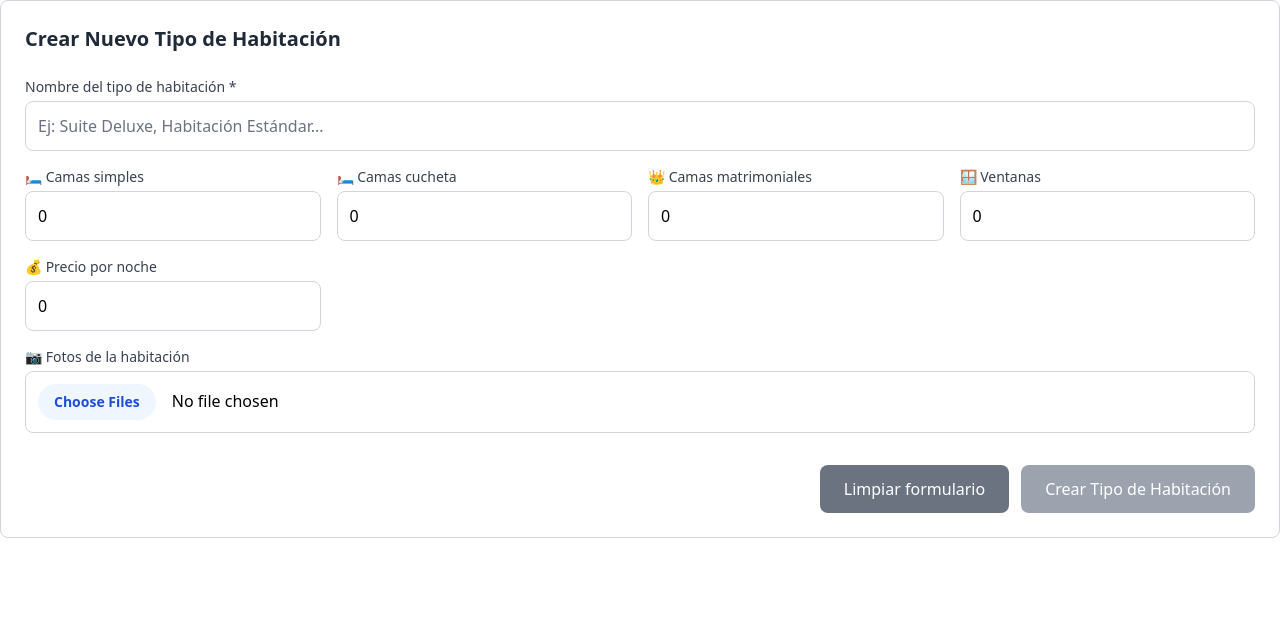
Test: RoomTypeForm › permite completar datos y enviar el formulario con éxito
Type "Suite Deluxe" into the field labelled "Nombre del tipo de habitación *" at [640, 126], box [25,101,1255,151]
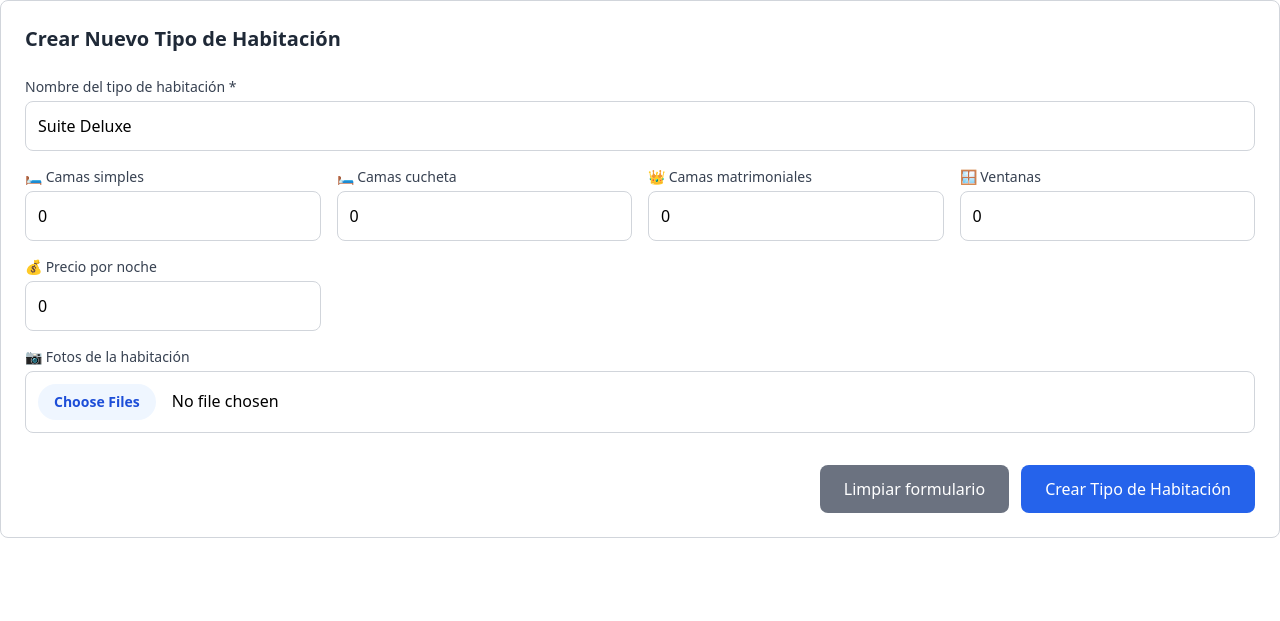
Replace the text in the number field labelled "🛏️ Camas simples" with "2" at [173, 216], box [25,191,320,241]
Replace the text in the number field labelled "🛏️ Camas cucheta" with "1" at [484, 216], box [336,191,632,241]
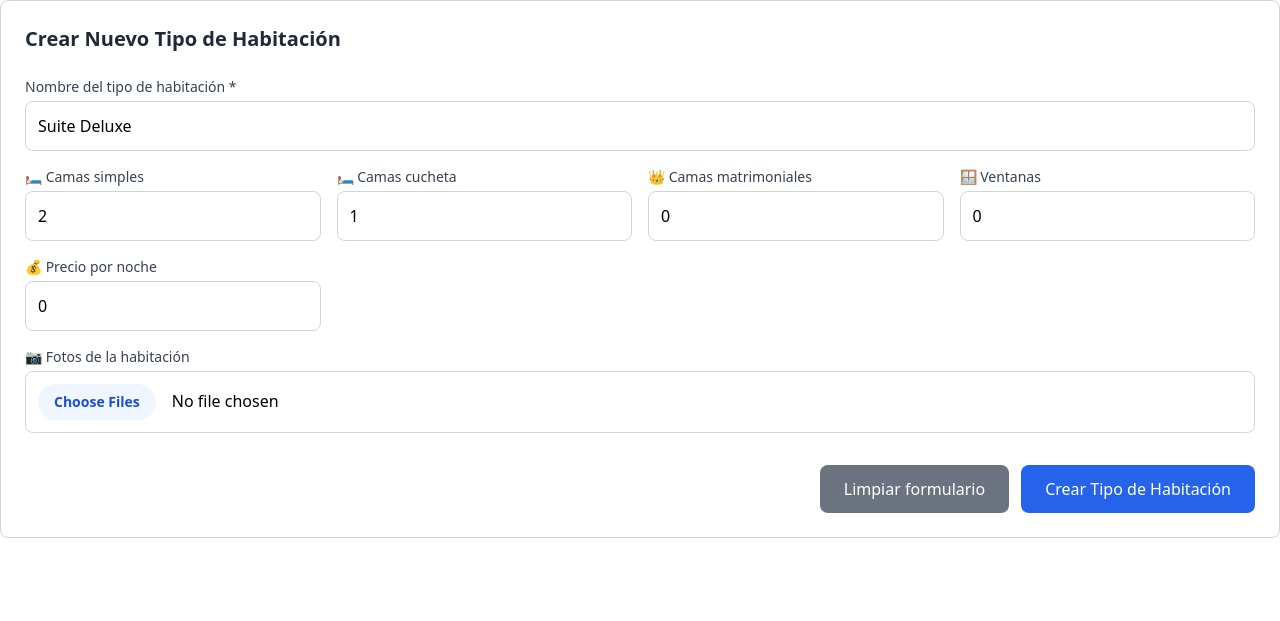
Replace the text in the number field labelled "👑 Camas matrimoniales" with "1" at [796, 216], box [648,191,944,241]
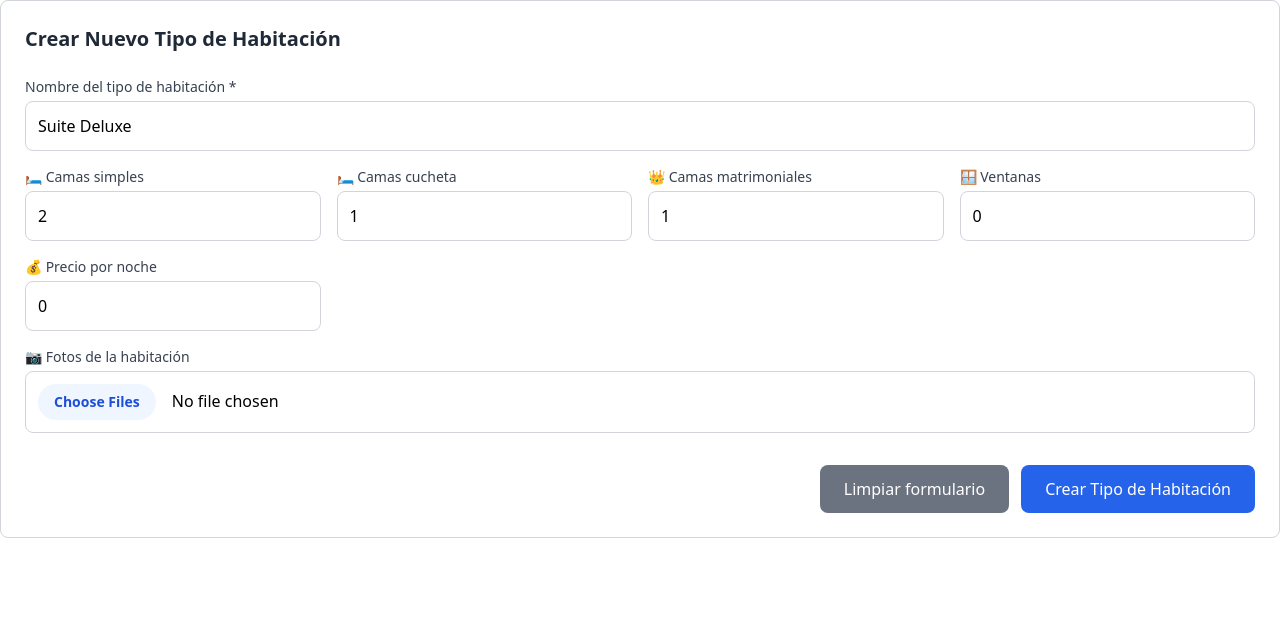
Replace the text in the number field labelled "🪟 Ventanas" with "3" at [1107, 216], box [960,191,1255,241]
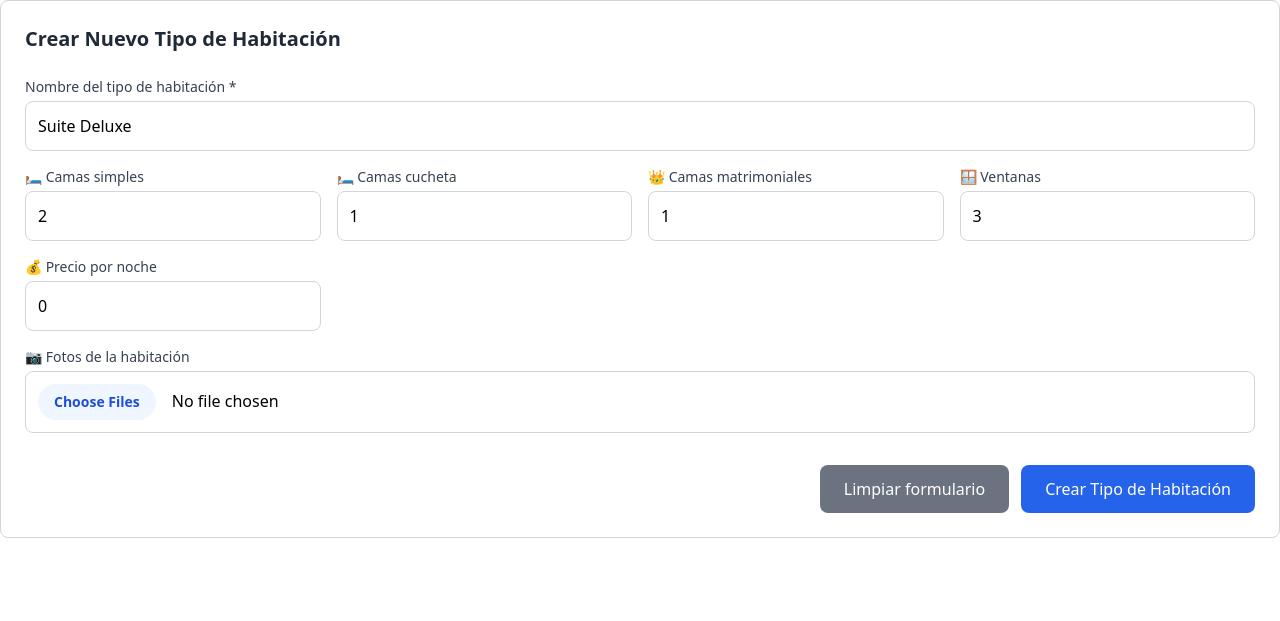
Replace the text in the number field labelled "💰 Precio por noche" with "120.50" at [173, 306], box [25,281,320,331]
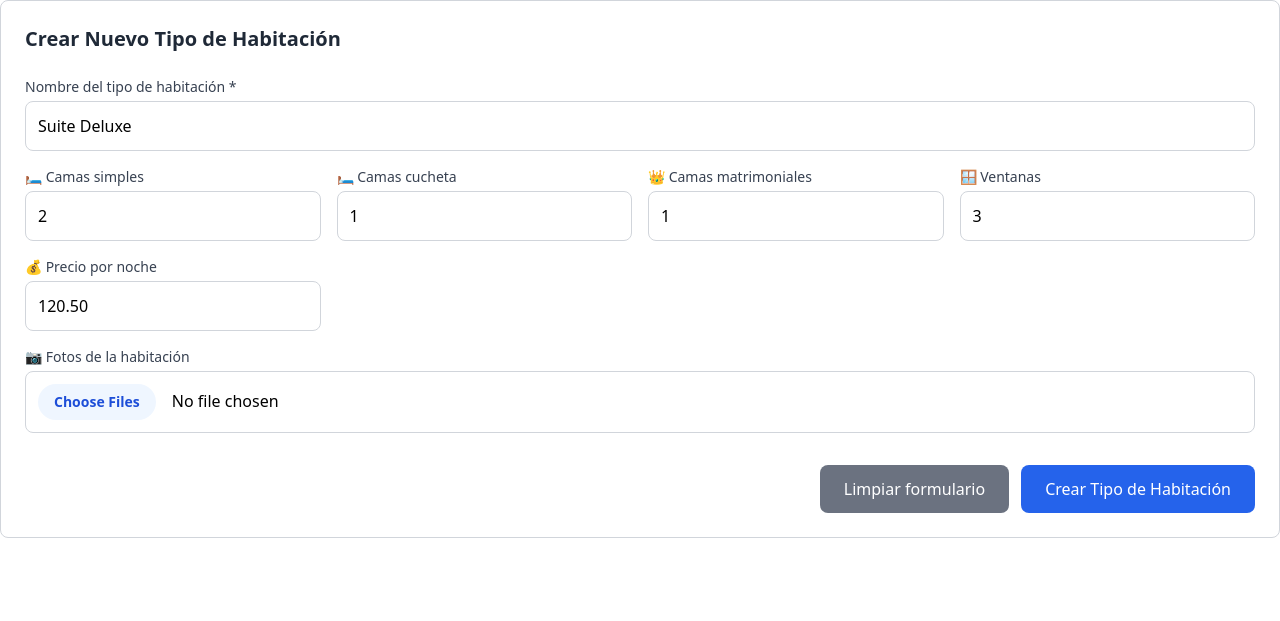
Click the button "Crear Tipo de Habitación" at [1138, 489], box [1021,465,1255,513]
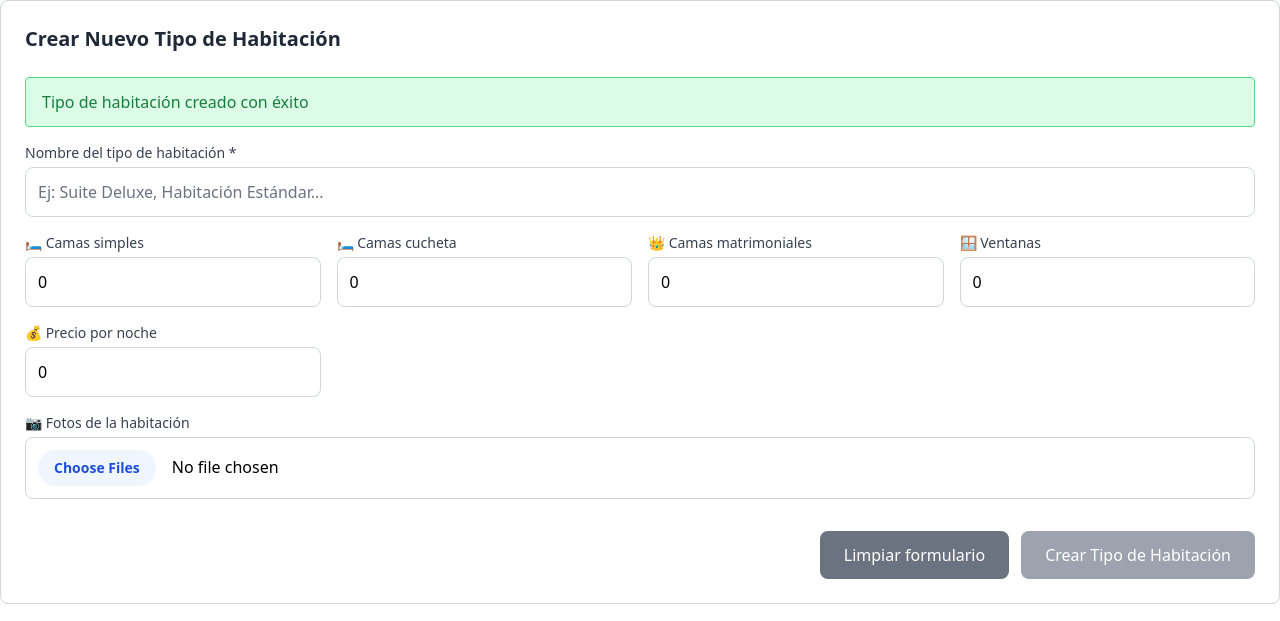
Check: the text "Tipo de habitación creado con éxito" is shown, box [25,77,1255,127]
